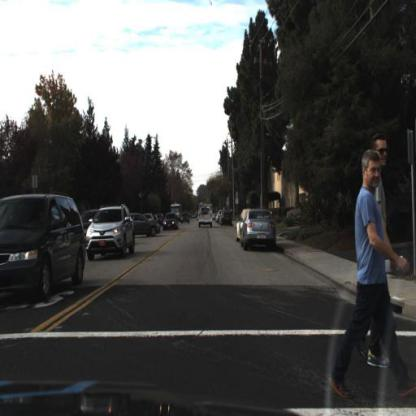car: (1, 197, 85, 302), (88, 204, 137, 261), (243, 209, 278, 250), (132, 208, 159, 241), (131, 213, 163, 239), (196, 201, 217, 238), (220, 209, 235, 230), (180, 206, 193, 227)
pedestrian: (329, 146, 416, 404), (355, 132, 393, 370)
truck: (196, 202, 215, 231), (169, 202, 183, 218)
